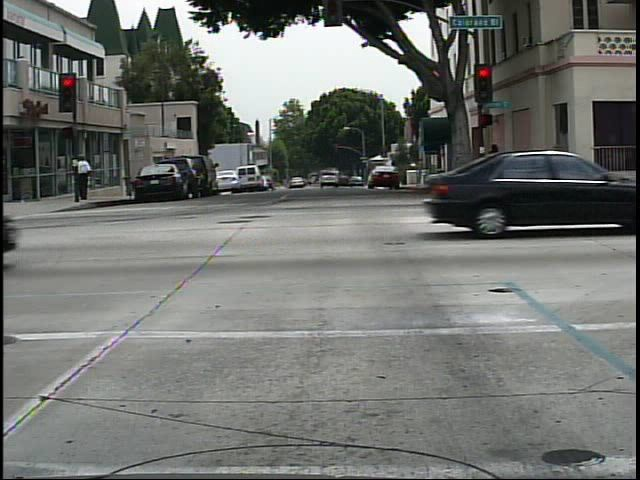person: (480, 138, 511, 191), (79, 149, 98, 203)
